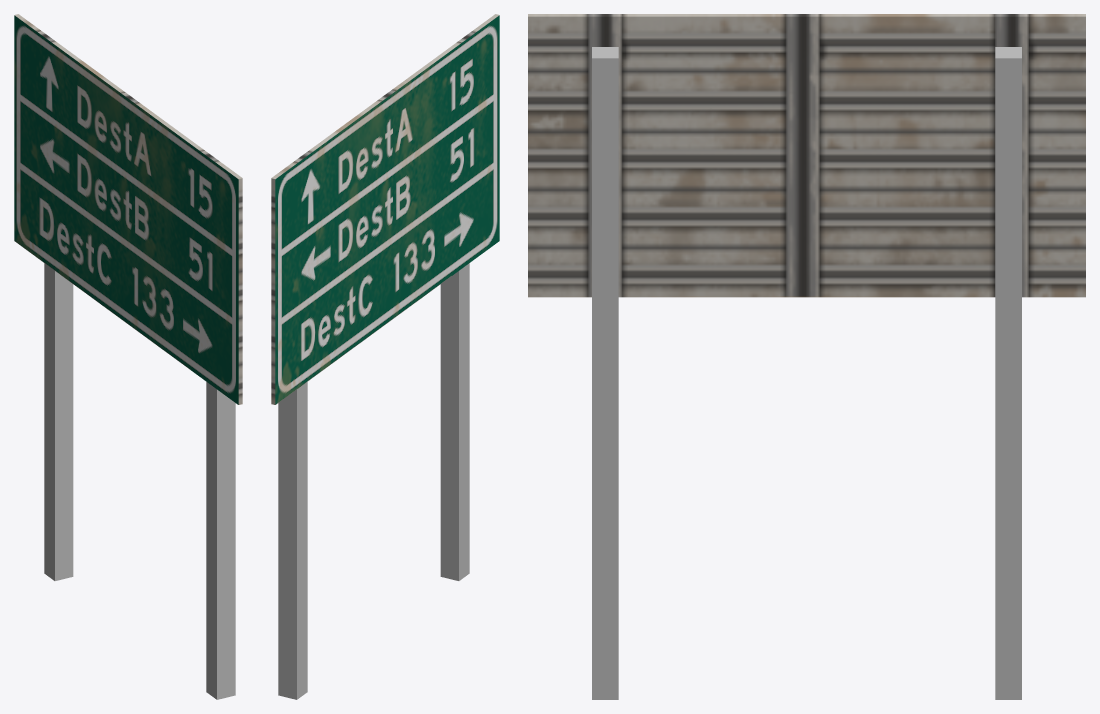
The model's file is trafficSign_HWay3d_ground.fbx.
3 renders of one model, left to right at view 1: azimuth 30°, elevation 25°; view 2: azimuth 150°, elevation 25°; view 3: azimuth 270°, elevation 25°, orthographic. The views are drawn at different scales.
Visible parts, largest first — view 1: trafficSign_HWay3d_ground; view 2: trafficSign_HWay3d_ground; view 3: trafficSign_HWay3d_ground.
Part boxes in pixels (box(x1,y1,x2,y2)): trafficSign_HWay3d_ground: box(14, 14, 242, 699); trafficSign_HWay3d_ground: box(271, 14, 499, 699); trafficSign_HWay3d_ground: box(528, 14, 1085, 699).
Bounding box in the file's own units: 15.84 × 359 × 270.
